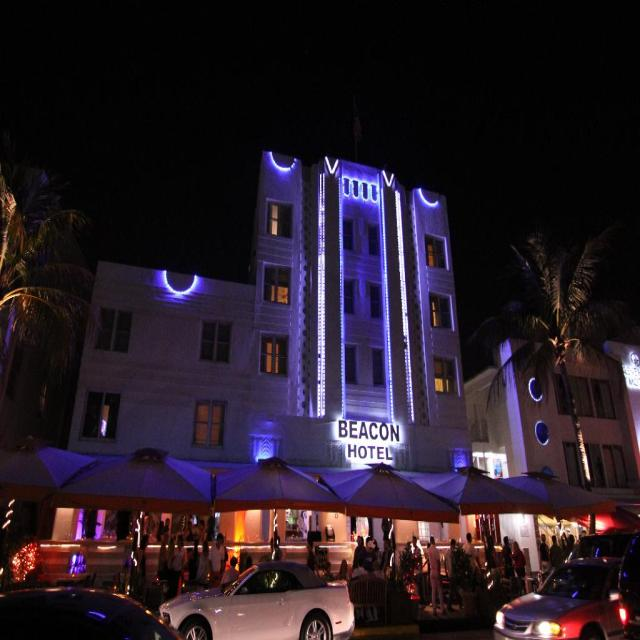car: (158, 557, 356, 638)
